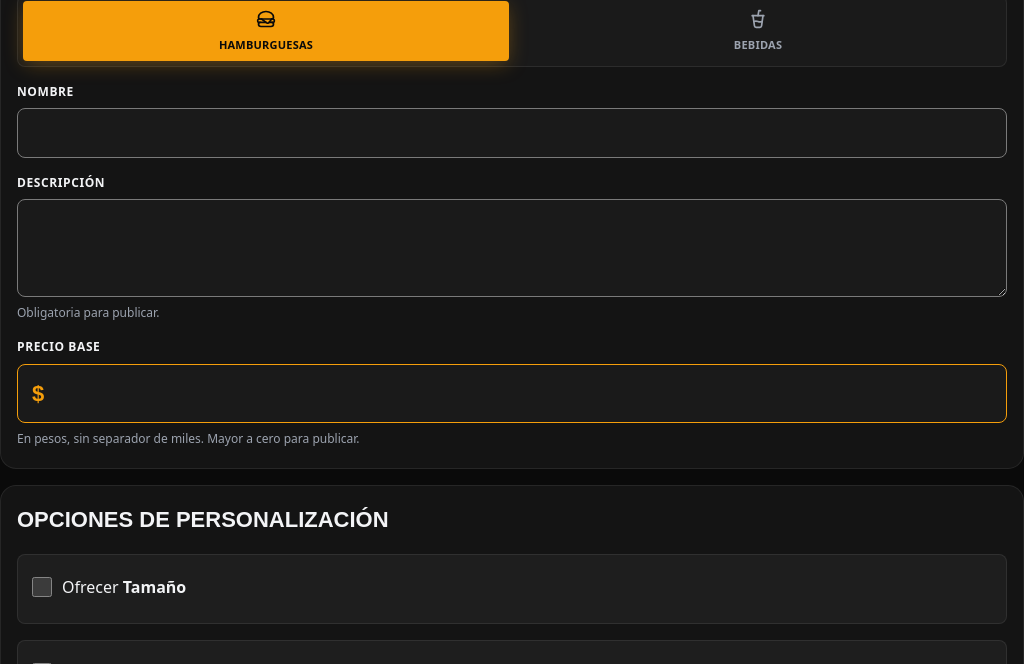
Test: ProductForm › asks for defaults once a group is offered: one choice for single groups, several for multiple
What coordinates should you click on to do the following:
click the checkbox labelled "Ofrecer Tamaño"
I would click on:
 (42, 587)
Its box is [32,577,52,597].
(page scrolled)
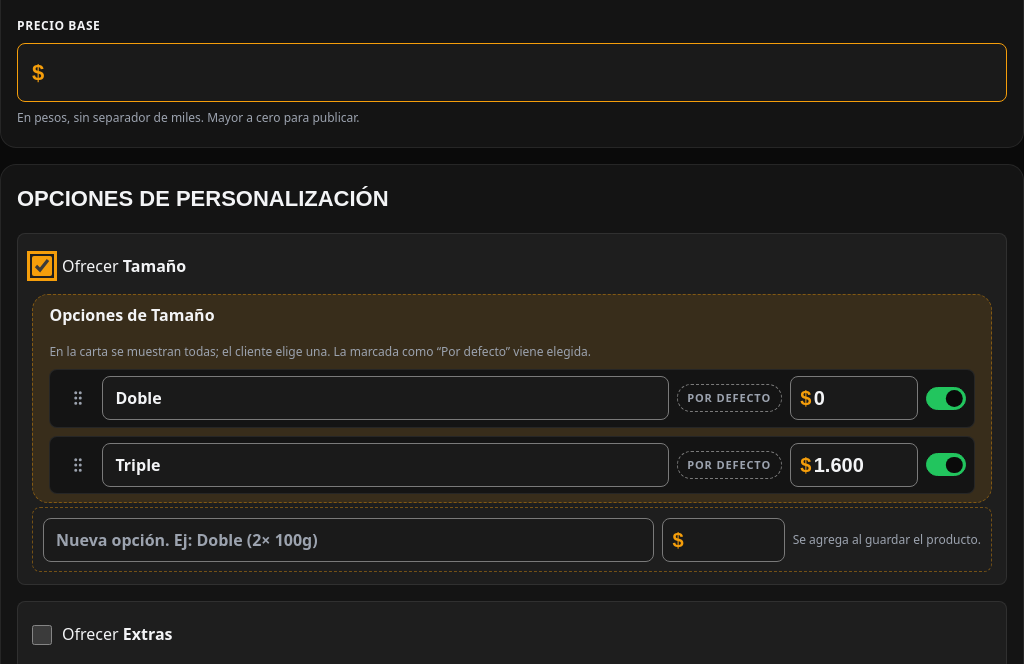
Result: the radio button with aria-label "Triple por defecto" is shown at [676,443,782,487]
What coordinates should you click on to do the following:
click the checkbox labelled "Ofrecer Extras"
I would click on:
 (42, 635)
Its box is [32,625,52,645].
(page scrolled)
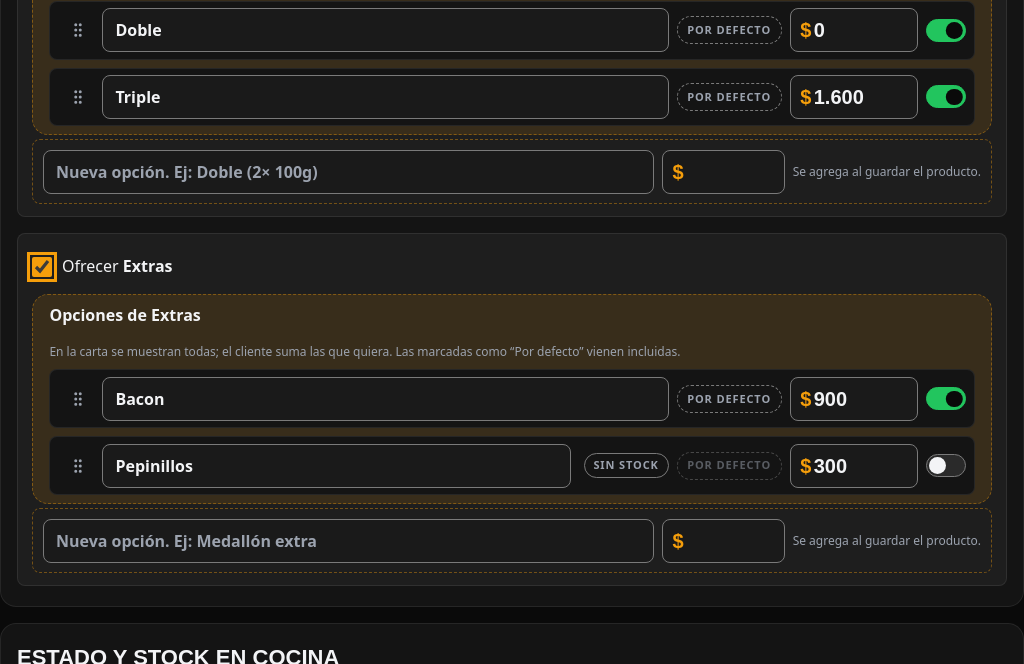
Result: the checkbox named "Bacon por defecto" is enabled at [676,377,782,421]
Result: the 5th checkbox labelled "Por defecto" is disabled at [676,444,782,488]
